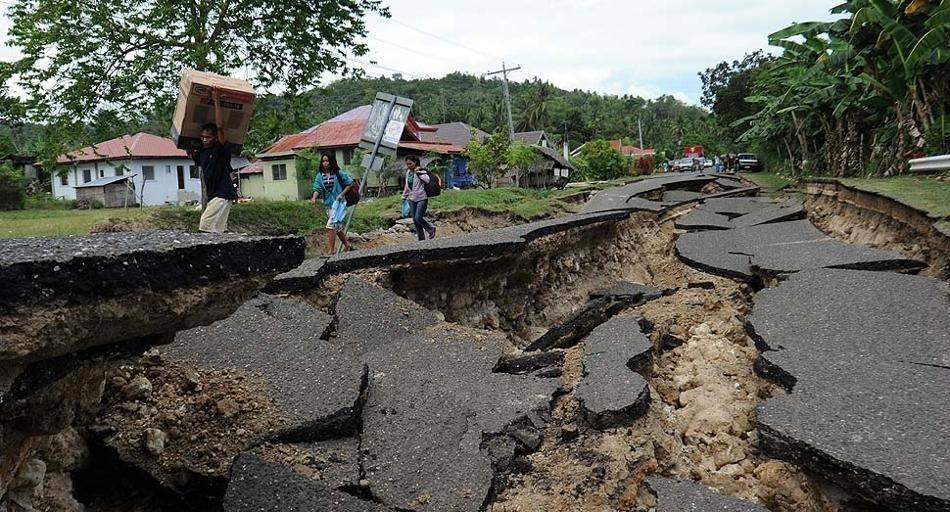crackedroads: (1, 266, 287, 476), (325, 214, 634, 336), (649, 289, 760, 496), (478, 396, 646, 507), (782, 180, 936, 258), (630, 203, 691, 280)
